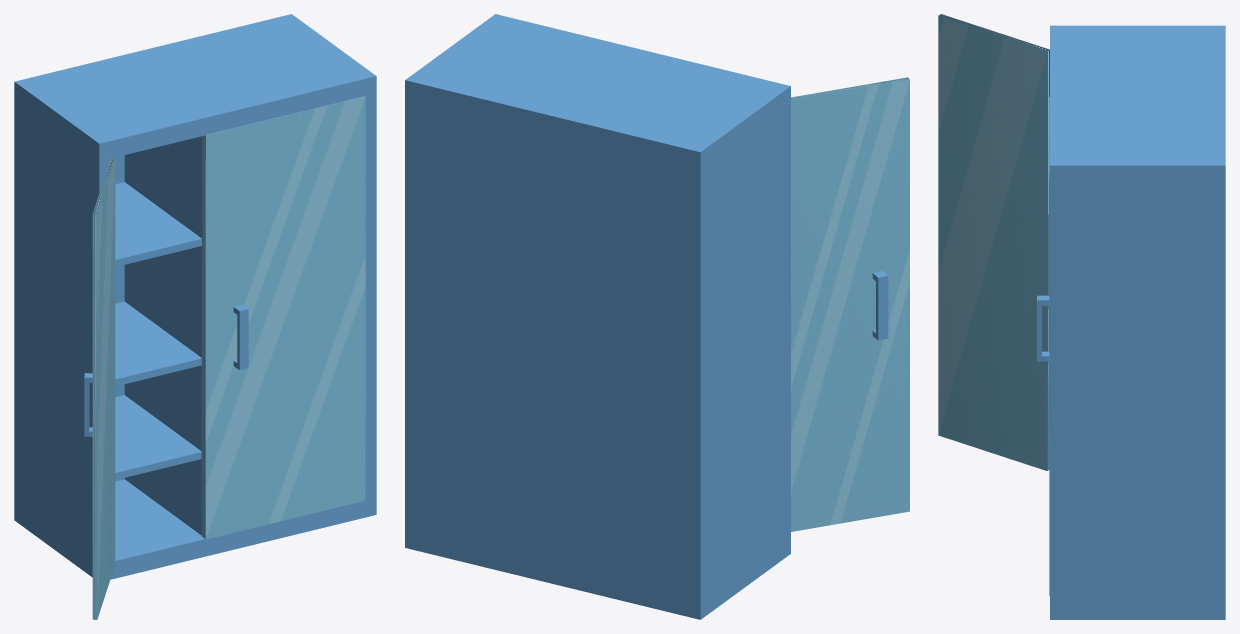
The model's file is Refri.obj.
3 views of the same model, side by side, from view 1: azimuth 30°, elevation 25°; view 2: azimuth 150°, elevation 25°; view 3: azimuth 270°, elevation 25° (orthographic). The views are drawn at different scales.
Visible parts, largest first — view 1: Cube.011, Cube.017, Cube.012, Cube.016, Cube.046, Cube.014, Cube.013, Cube.018; view 2: Cube.011, Cube.016, Cube.001; view 3: Cube.011, Cube.016, Cube.018, Cube.017.
Part boxes in pixels (<box>): Cube.011: <box>14,14,376,579</box>; Cube.017: <box>201,96,365,539</box>; Cube.012: <box>124,136,201,535</box>; Cube.016: <box>92,158,115,619</box>; Cube.046: <box>115,301,201,386</box>; Cube.014: <box>115,182,201,266</box>; Cube.013: <box>115,395,201,479</box>; Cube.018: <box>233,304,248,369</box>; Cube.011: <box>405,14,790,619</box>; Cube.016: <box>791,77,909,531</box>; Cube.001: <box>872,271,888,340</box>; Cube.011: <box>1050,25,1225,619</box>; Cube.016: <box>938,14,1049,470</box>; Cube.018: <box>1037,295,1049,361</box>; Cube.017: <box>1049,97,1049,596</box>.
Size of the model in its own units: 2.45 by 3.05 by 1.75.
2 materials, 2 textured.
